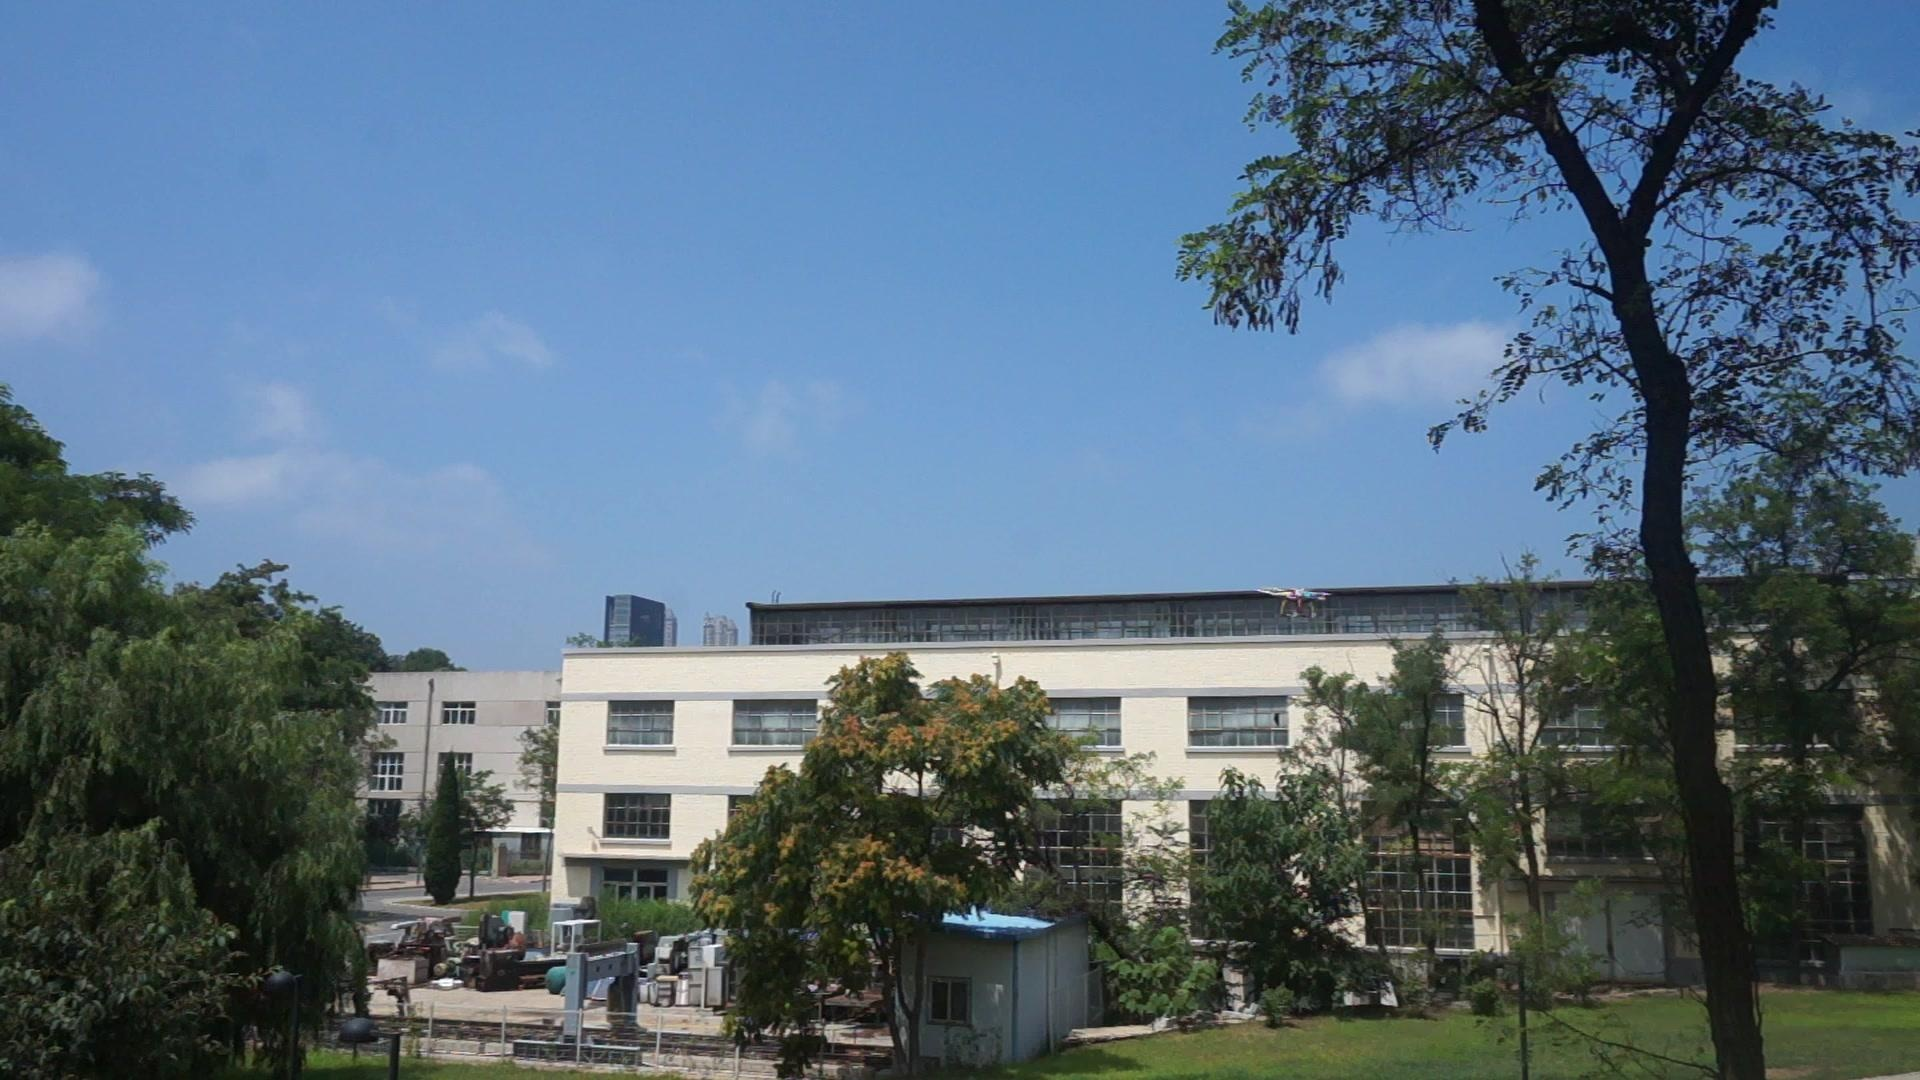UAV: (1258, 587, 1335, 618)
